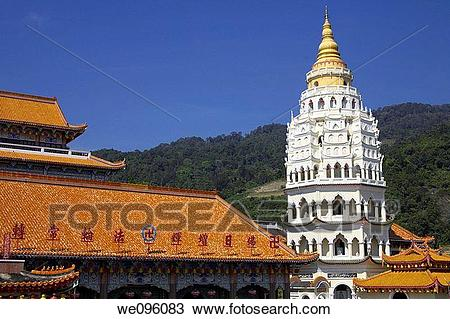Buddhist Temple: (275, 10, 391, 262)
